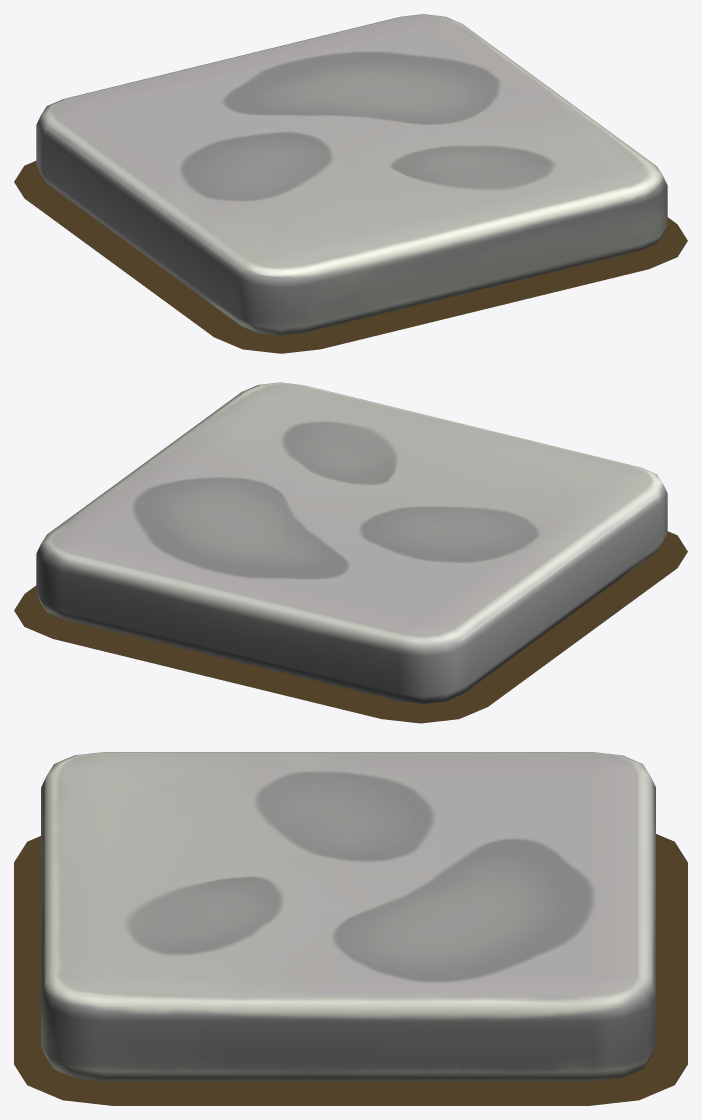
The model's file is Veg_Tile.fbx.
3 renders of one model, top to bottom at view 1: azimuth 30°, elevation 25°; view 2: azimuth 150°, elevation 25°; view 3: azimuth 270°, elevation 25°, orthographic. The views are drawn at different scales.
Visible parts, largest first — view 1: Tile_body, Tile_SDW; view 2: Tile_body, Tile_SDW; view 3: Tile_body, Tile_SDW.
Boxes of the visible parts, box(x1,y1,x2,y2) form: Tile_body: box(36, 14, 667, 335); Tile_SDW: box(14, 161, 687, 353); Tile_body: box(36, 382, 667, 703); Tile_SDW: box(14, 531, 687, 723); Tile_body: box(41, 752, 655, 1081); Tile_SDW: box(14, 834, 687, 1105).
Bounding box in the file's own units: 98.63 × 14.31 × 98.63.
2 materials, 1 textured.
